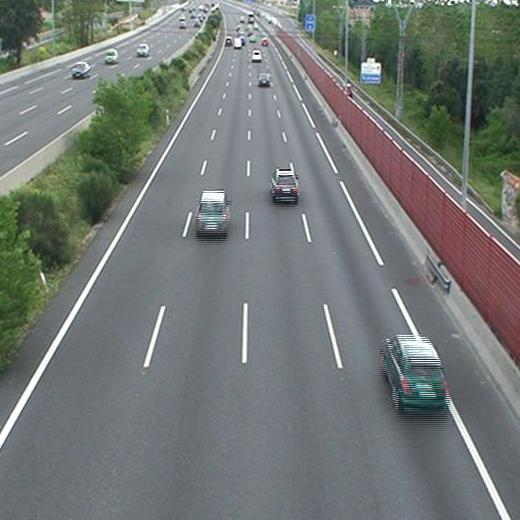car: (381, 337, 447, 406), (197, 192, 229, 232), (272, 171, 298, 201), (259, 74, 269, 86), (252, 50, 262, 61), (261, 38, 269, 46), (225, 37, 232, 45), (248, 35, 255, 43)
van: (233, 37, 242, 49)
